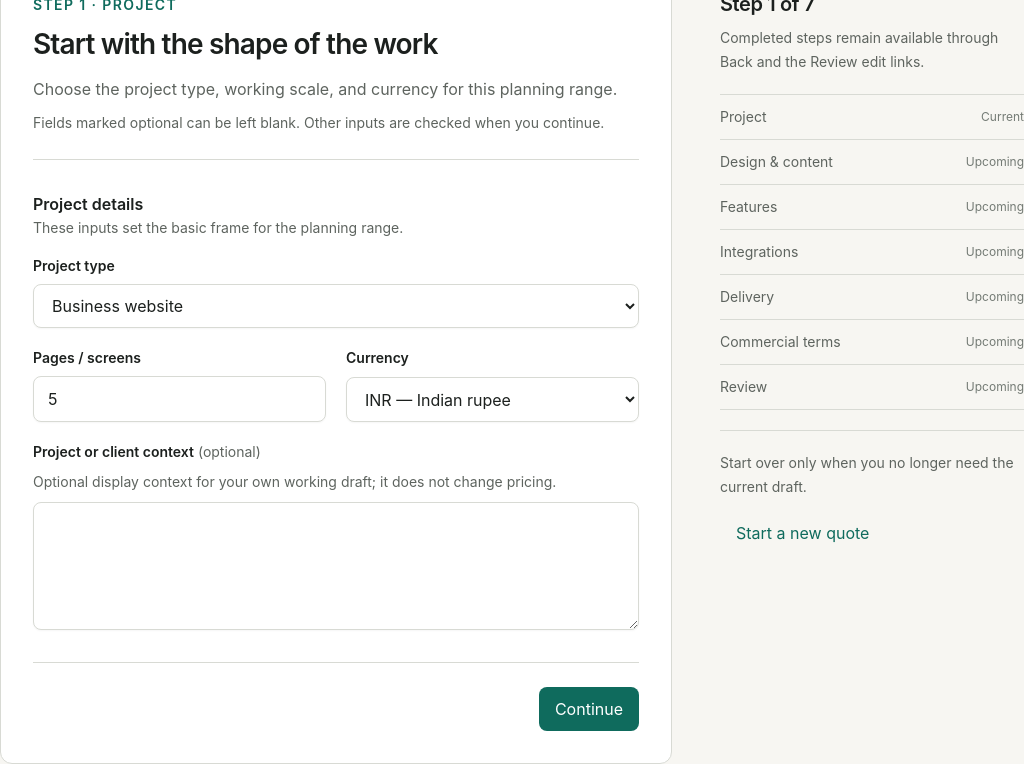
Scenario: QuoteBuilder › shows API count fields only after API work is selected
(page scrolled)
Click the button "Continue" at coordinates (589, 709), box [539, 687, 639, 731]
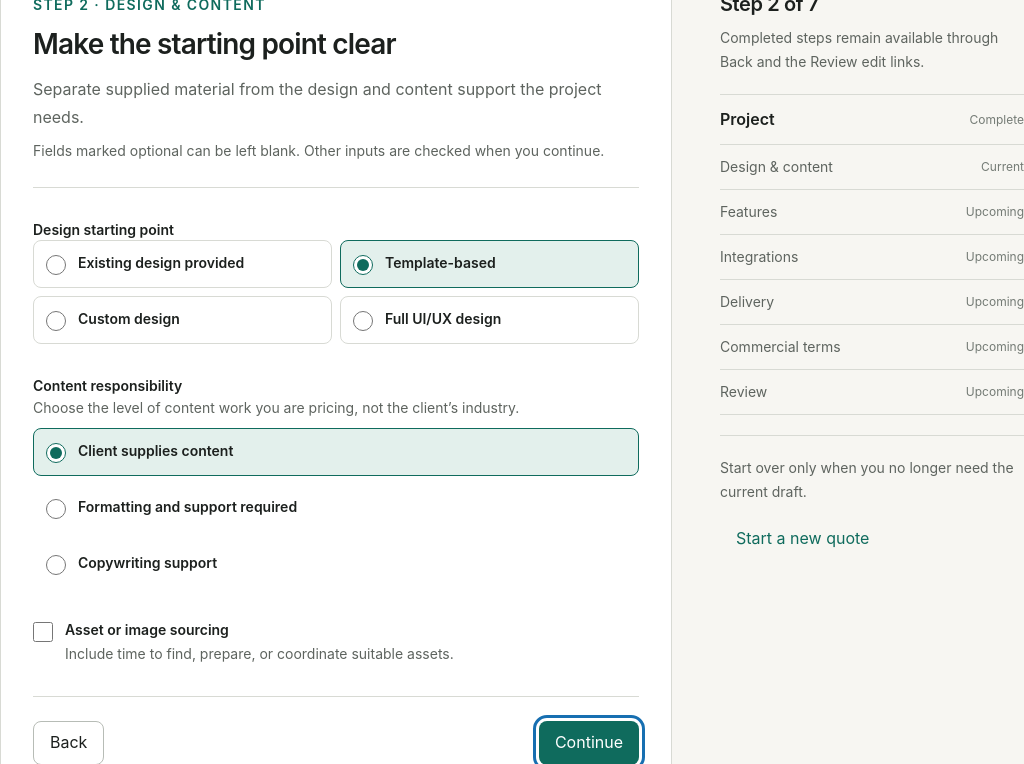
Click the button "Continue" at coordinates (589, 743), box [539, 721, 639, 763]
(page scrolled)
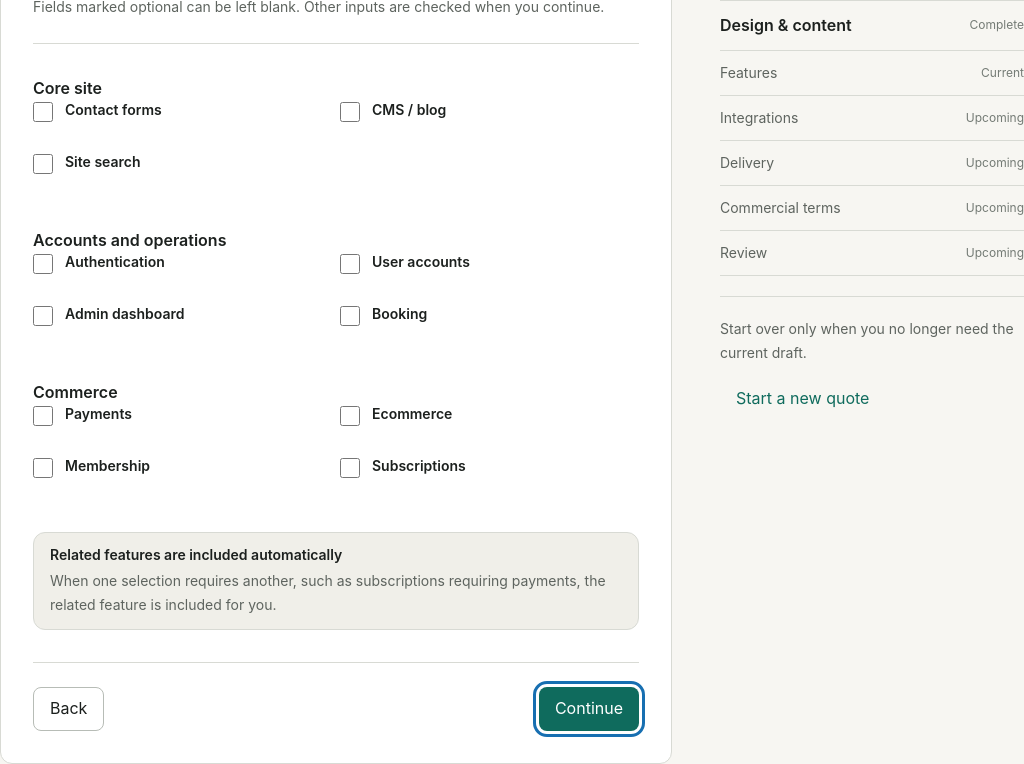
Click the button "Continue" at coordinates (589, 709), box [539, 687, 639, 731]
(page scrolled)
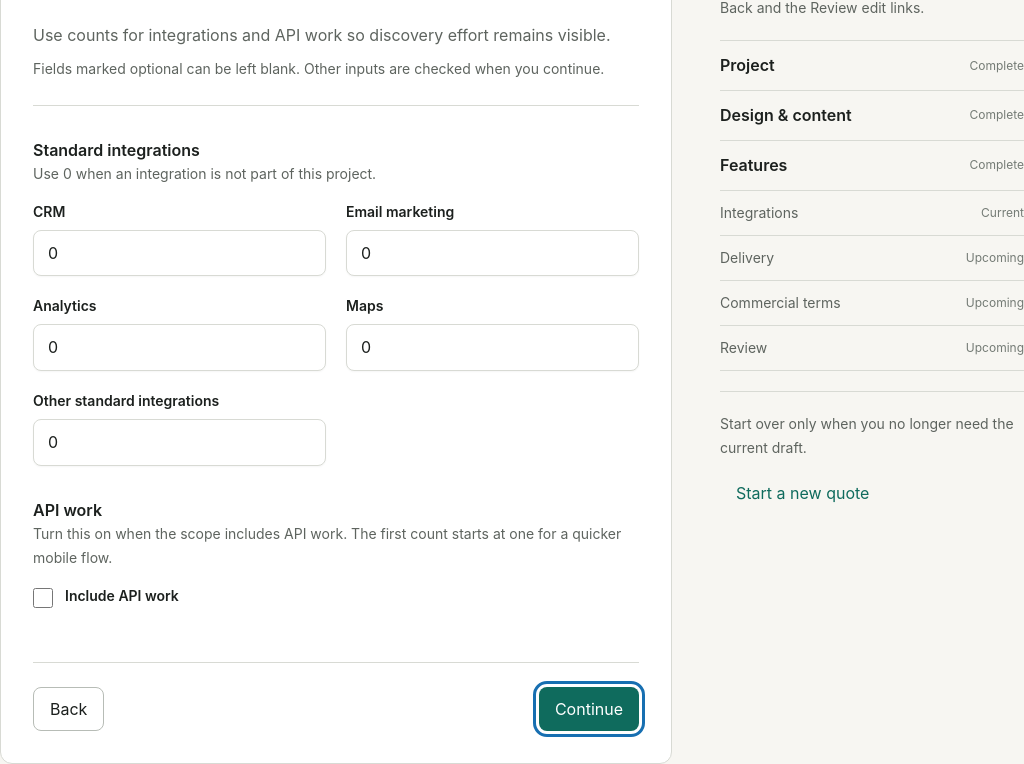
Expected: the number field labelled "Third-party APIs" is not shown
Click the checkbox labelled "Include API work" at coordinates (43, 598), box [33, 588, 53, 608]
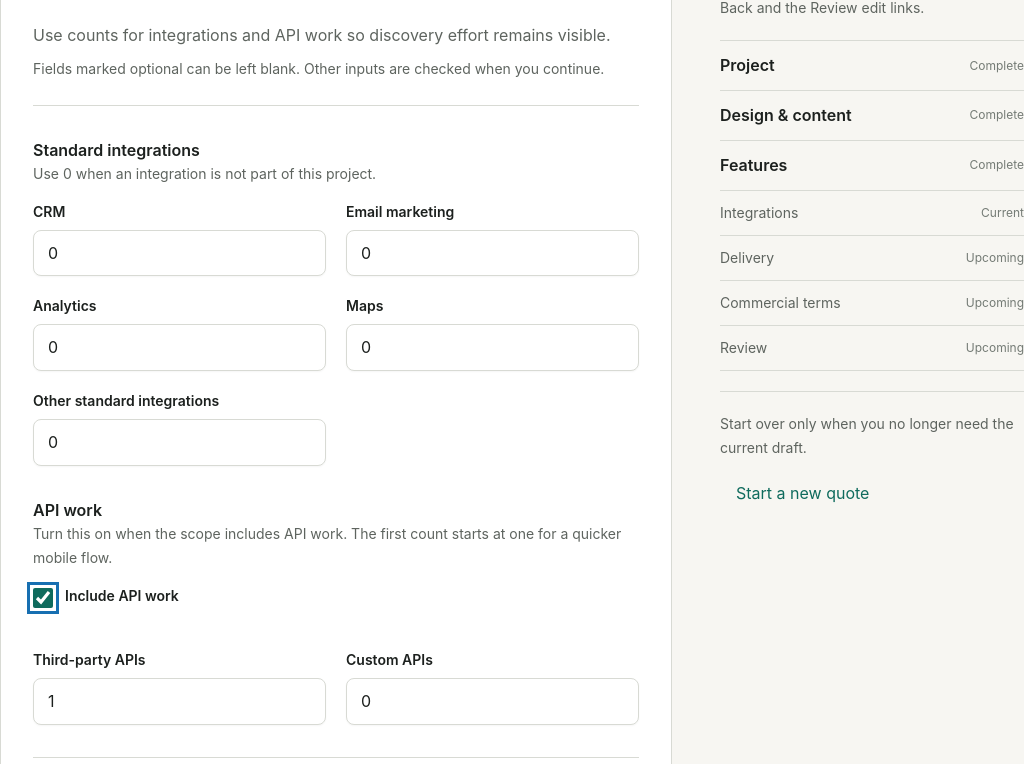
Now the number field labelled "Third-party APIs" holds "1", box [34, 679, 325, 724]
